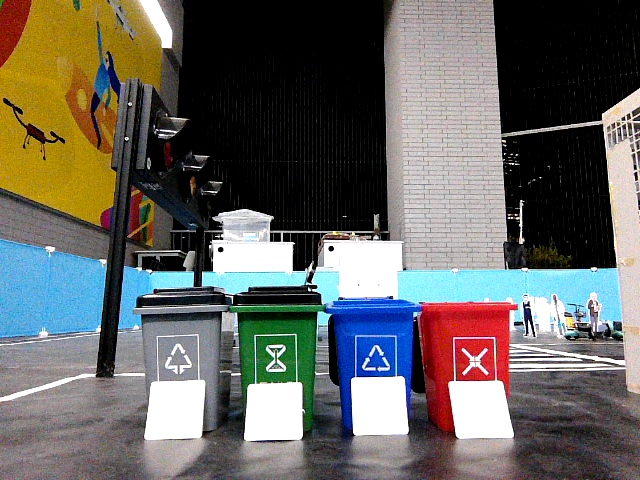blue_open: (334, 296, 410, 374)
green_close: (239, 285, 316, 378)
grey_close: (141, 288, 222, 378)
red_open: (426, 301, 505, 377)
